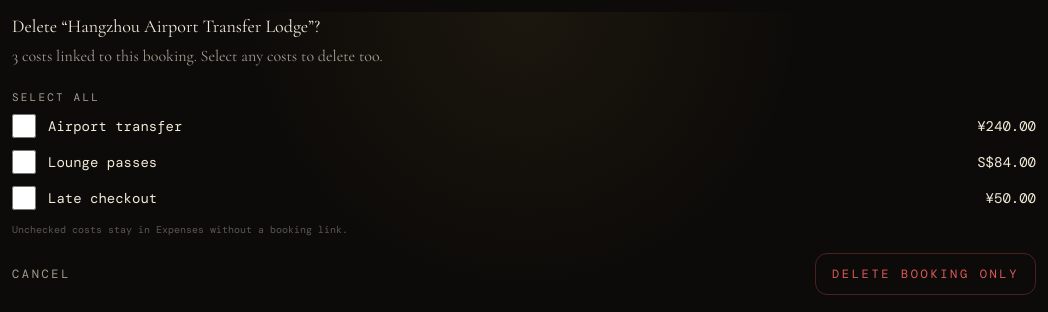
Test: BookingDeleteReview › shows a repayment consequence only for checked rows, and only for open owed rows
The image size is (1048, 312).
Click the checkbox labelled "Late checkout ¥50.00".
click(24, 198)  # box 12,186 -> 36,210
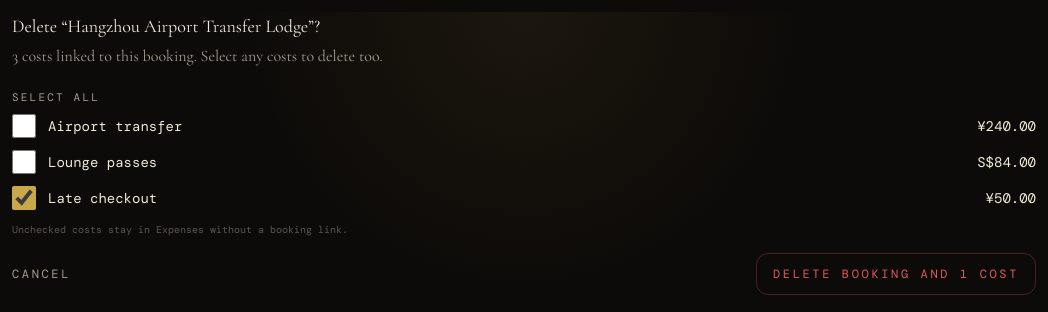
Check: the button "Delete booking and 1 cost" is shown, box 756,252 -> 1036,294
